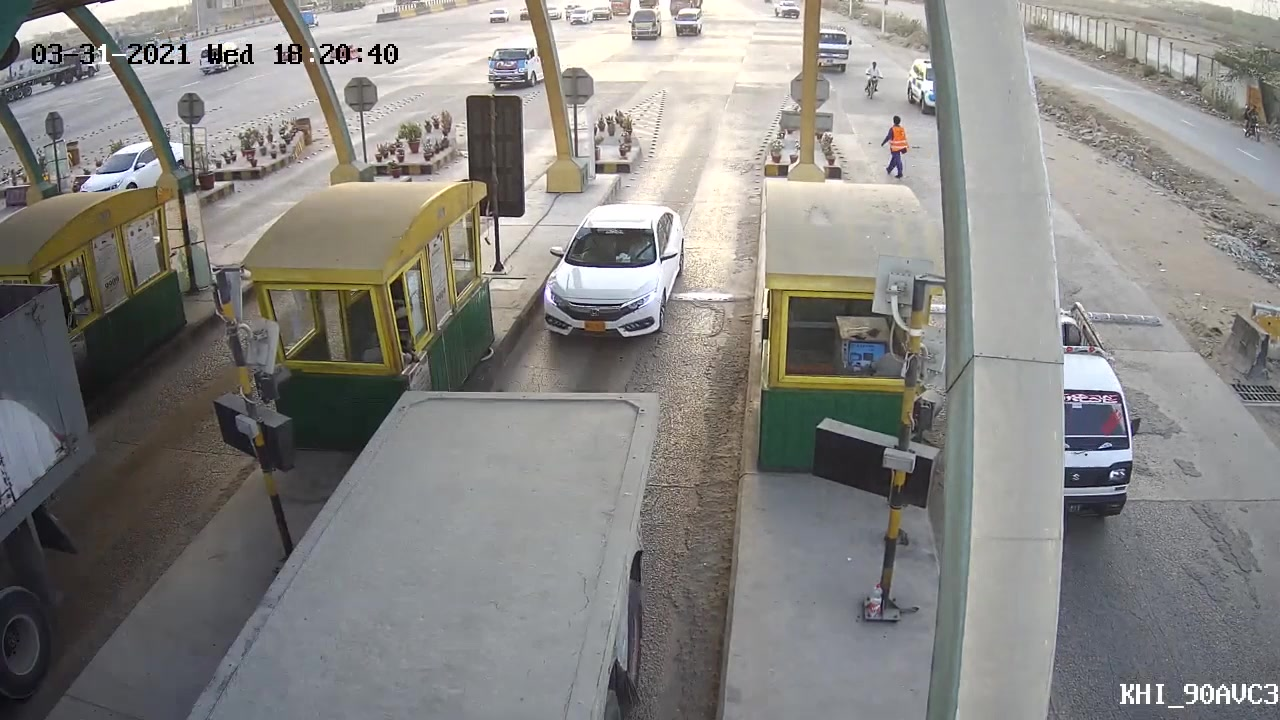F1: (530, 192, 691, 347)
